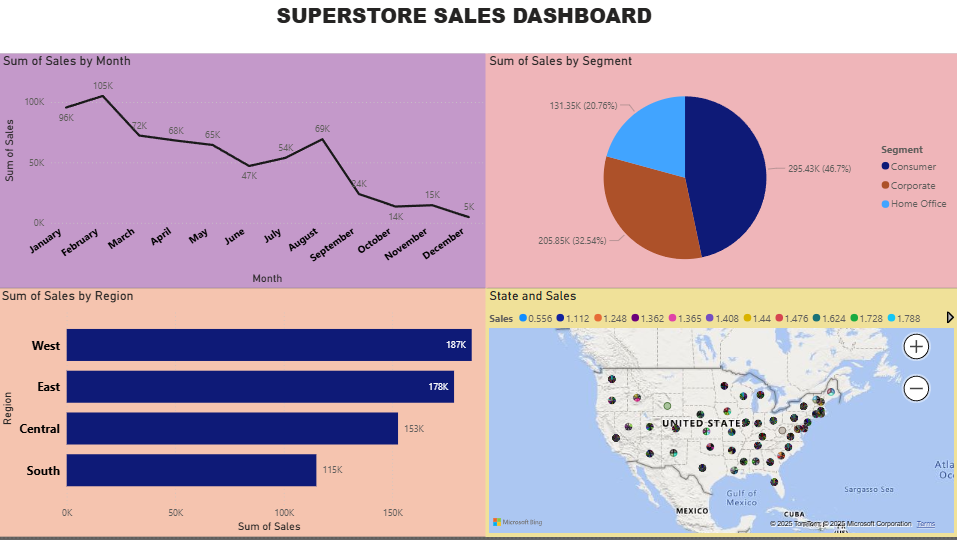

The page's visual inventory and layout, read from the dashboard file:
{"tool":"powerbi","page":{"name":"Dashboard","canvas":[1280,720],"ordinal":0},"visuals":[{"type":"lineChart","fields":{"Category":["Sample___Superstore.Order Date.Variation.Date Hierarchy.Month"],"Y":["Sum(Sample___Superstore.Sales)"]},"box":[1.6,75.4,650.8,313.1],"z":0},{"type":"barChart","fields":{"Category":["Sample___Superstore.Region"],"Y":["Sum(Sample___Superstore.Sales)"]},"box":[0,388.5,650.8,331.1],"z":1000},{"type":"pieChart","fields":{"Category":["Sample___Superstore.Segment"],"Y":["Sum(Sample___Superstore.Sales)"]},"box":[650.8,75.4,629.5,313.1],"z":2000},{"type":"map","fields":{"Category":["Sample___Superstore.State"],"Series":["Sample___Superstore.Sales"]},"box":[650.8,388.5,629.5,331.1],"z":3000},{"type":"textbox","box":[1.6,0,1278.7,75.4],"z":4000}]}

Visuals, with their boxes in screenshot pixels (x1, y1, x2, y2), scaled from the page's 1280x720 canvas onto the 957x540 screenshot:
lineChart - Sample___Superstore.Order Date.Variation.Date Hierarchy.Month x Sum(Sample___Superstore.Sales): {"x1": 1, "y1": 57, "x2": 488, "y2": 291}
barChart - Sample___Superstore.Region x Sum(Sample___Superstore.Sales): {"x1": 0, "y1": 291, "x2": 487, "y2": 539}
pieChart - Sample___Superstore.Segment x Sum(Sample___Superstore.Sales): {"x1": 487, "y1": 57, "x2": 956, "y2": 291}
map - Sample___Superstore.State x Sample___Superstore.Sales: {"x1": 487, "y1": 291, "x2": 956, "y2": 539}
textbox: {"x1": 1, "y1": 0, "x2": 956, "y2": 57}
